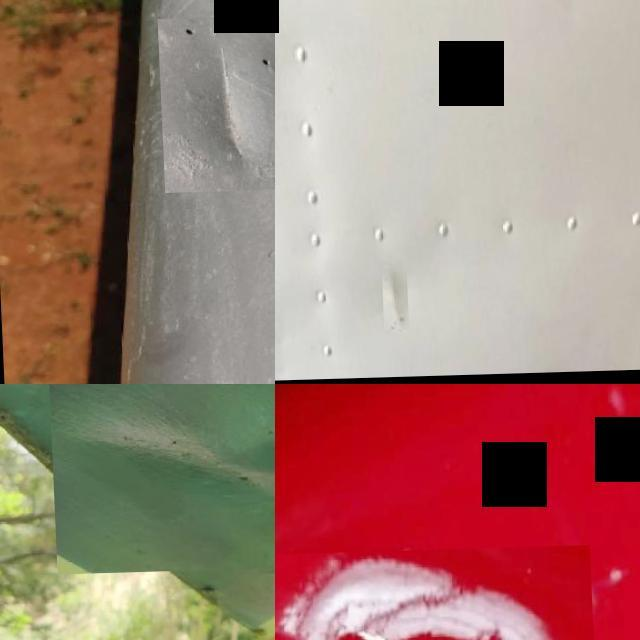Crack: (275, 547, 596, 640)
Dent: (45, 384, 275, 574), (155, 16, 275, 193), (377, 271, 402, 332)
